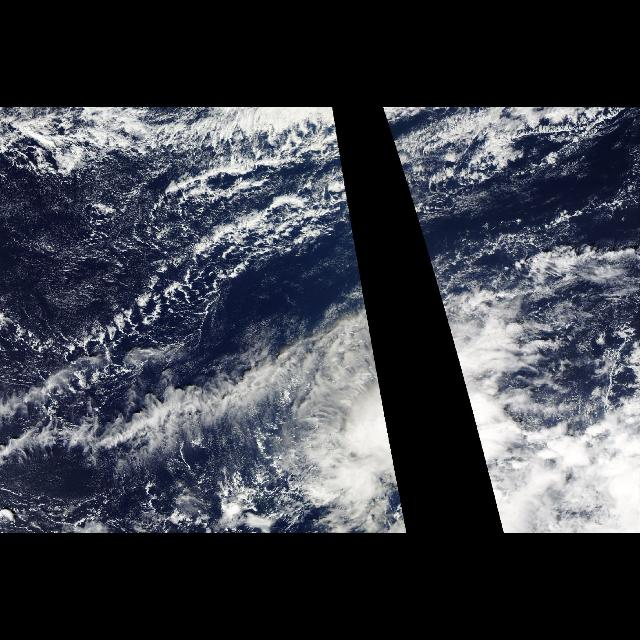Fish: (0, 109, 394, 462), (383, 109, 635, 462)
Gravel: (64, 248, 238, 372)
Sugar: (5, 174, 140, 340)
